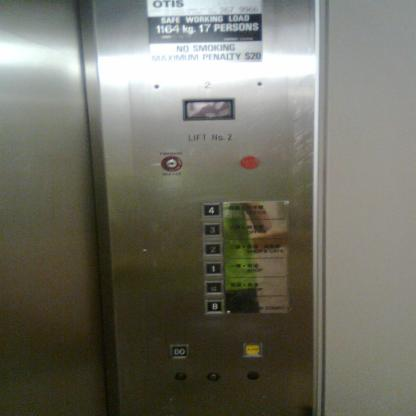1: (201, 261, 224, 277)
2: (201, 241, 224, 257)
3: (200, 221, 223, 238)
4: (200, 202, 223, 218)
B: (202, 299, 225, 315)
DO: (167, 344, 190, 360)
blur: (203, 280, 225, 296)
keyhole: (161, 156, 182, 172)
led: (181, 98, 235, 121)
text_alarm bell: (242, 341, 264, 358)
text_blur: (240, 155, 259, 169)
